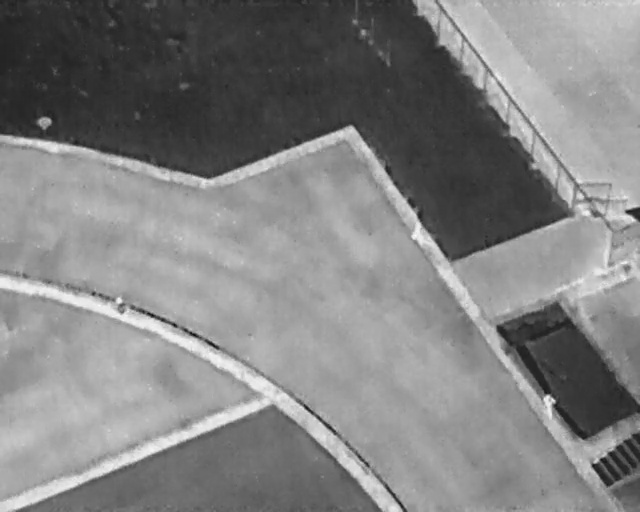Person: (543, 391, 556, 420), (409, 220, 423, 245), (114, 296, 129, 319)
